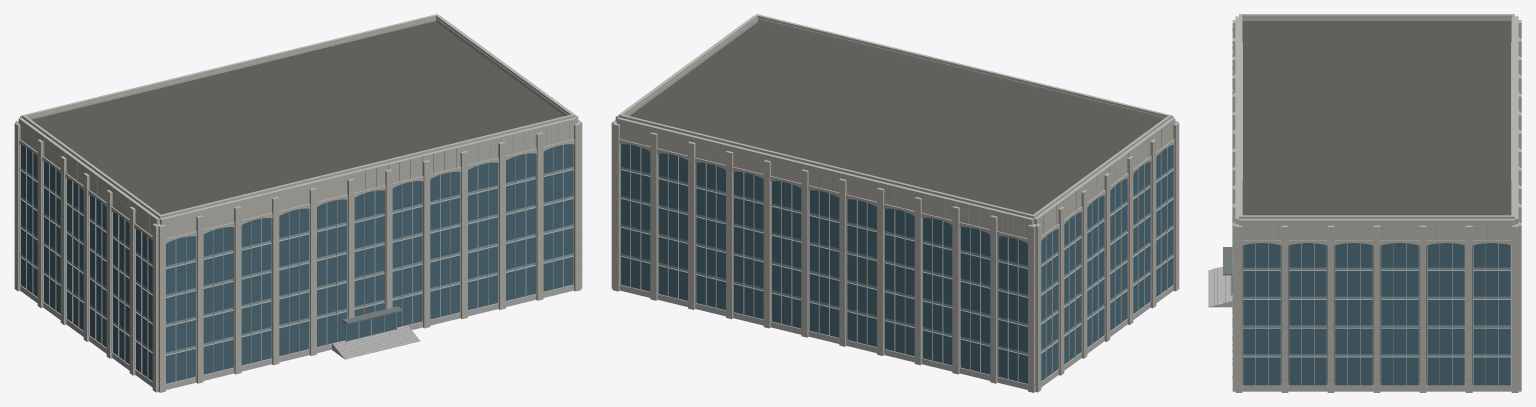
3 views of the same model, side by side, from view 1: azimuth 30°, elevation 25°; view 2: azimuth 150°, elevation 25°; view 3: azimuth 270°, elevation 25° (orthographic).
Visible parts, largest first — view 1: roof__roof, front-bays__blueglass, front-pilasters__pale, west-bays__blueglass, front-bays__frame, front-bays__pale, west-pilasters__pale, west-bays__frame, roof-parapet__pale, front-bays__spandrel, west-bays__pale, plinth__concrete (+5 smaller); view 2: roof__roof, rear-bays__blueglass, rear-pilasters__pale, west-bays__blueglass, rear-bays__frame, rear-bays__pale, west-pilasters__pale, west-bays__frame, roof-parapet__pale, rear-bays__spandrel, west-bays__pale, plinth__concrete (+4 smaller); view 3: roof__roof, east-bays__blueglass, east-pilasters__pale, east-bays__pale, east-bays__frame, roof-parapet__pale, east-bays__spandrel, plinth__concrete, front-pilasters__pale, rear-pilasters__pale, east-bays__dark, rear-bays__pale (+7 smaller).
Boxes of the visible parts, x1,y1,x2,y2 form: roof__roof: (31, 21, 564, 214); front-bays__blueglass: (166, 144, 572, 383); front-pilasters__pale: (157, 123, 581, 392); west-bays__blueglass: (21, 145, 152, 381); front-bays__frame: (166, 144, 573, 384); front-bays__pale: (160, 117, 576, 243); west-pilasters__pale: (14, 122, 159, 392); west-bays__frame: (19, 144, 152, 382); roof-parapet__pale: (21, 14, 575, 218); front-bays__spandrel: (166, 166, 573, 354); west-bays__pale: (18, 117, 159, 240); plinth__concrete: (20, 285, 573, 391); roof__roof: (629, 21, 1162, 214); rear-bays__blueglass: (621, 144, 1027, 383); rear-pilasters__pale: (612, 123, 1036, 392); west-bays__blueglass: (1041, 145, 1172, 381); rear-bays__frame: (620, 144, 1027, 384); rear-bays__pale: (617, 117, 1033, 243); west-pilasters__pale: (1034, 122, 1179, 392); west-bays__frame: (1041, 144, 1174, 382); roof-parapet__pale: (618, 14, 1172, 218); rear-bays__spandrel: (620, 166, 1027, 354); west-bays__pale: (1034, 117, 1175, 240); plinth__concrete: (620, 285, 1173, 391); roof__roof: (1242, 21, 1511, 215); east-bays__blueglass: (1243, 243, 1510, 385); east-pilasters__pale: (1235, 224, 1518, 392); east-bays__pale: (1239, 219, 1514, 245); east-bays__frame: (1243, 243, 1511, 386); roof-parapet__pale: (1239, 14, 1514, 218); east-bays__spandrel: (1243, 267, 1510, 356); plinth__concrete: (1235, 181, 1511, 391); front-pilasters__pale: (1232, 20, 1235, 391); rear-pilasters__pale: (1515, 20, 1521, 391); east-bays__dark: (1242, 246, 1472, 384); rear-bays__pale: (1511, 16, 1519, 224).
Bounding box in the file's own units: 67.79 × 26.35 × 43.11.
